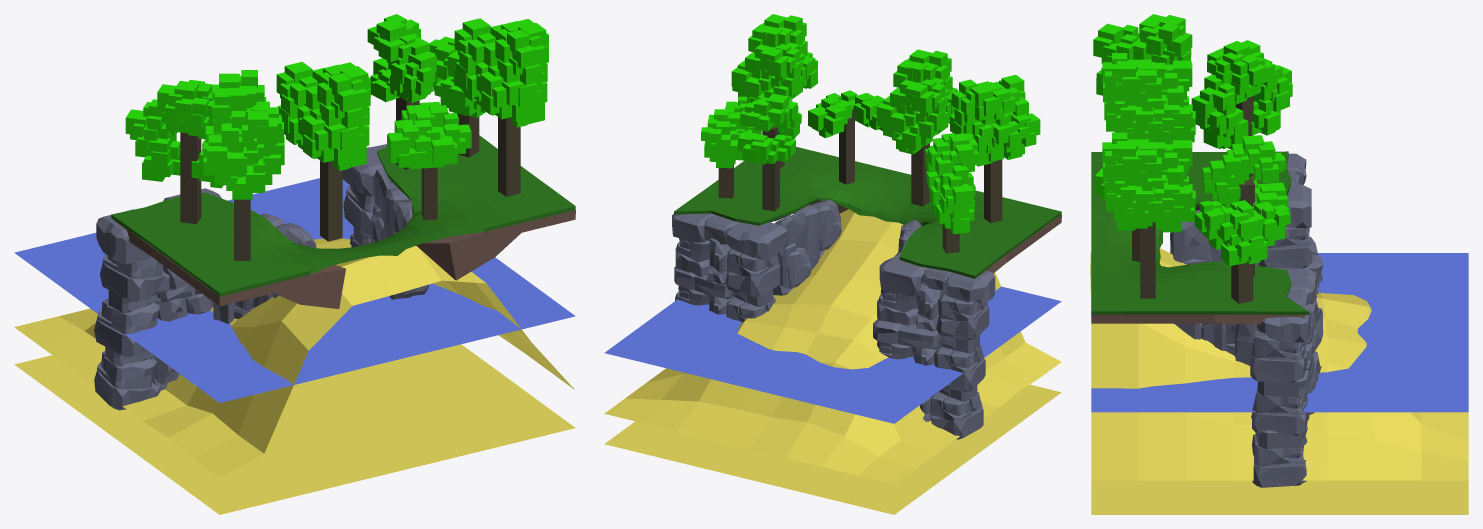
File: 36__tile.fbx
The picture shows the model from 3 angles, left to right: view 1: azimuth 30°, elevation 25°; view 2: azimuth 150°, elevation 25°; view 3: azimuth 270°, elevation 25°; orthographic projection. The views are drawn at different scales.
Visible parts, largest first — view 1: 36__tile; view 2: 36__tile; view 3: 36__tile.
Boxes of the visible parts, x1=… form: 36__tile: x1=14, y1=14, x2=575, y2=514; 36__tile: x1=604, y1=14, x2=1061, y2=514; 36__tile: x1=1090, y1=14, x2=1468, y2=514.
Bounding box in the file's own units: 213 × 211 × 200.
